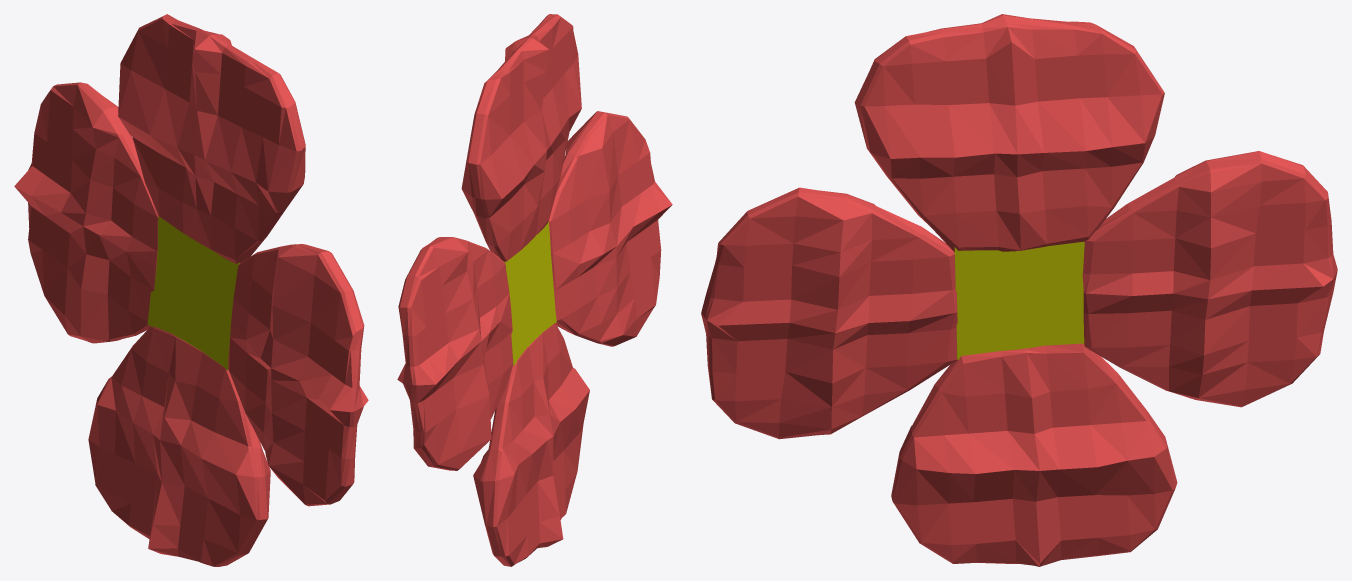
The model's file is MOD_Flowers.fbx.
The picture shows the model from 3 angles, left to right: view 1: azimuth 30°, elevation 25°; view 2: azimuth 150°, elevation 25°; view 3: azimuth 270°, elevation 25°; orthographic projection. The views are drawn at different scales.
Visible parts, largest first — view 1: MOD_TRAM_Fleur:Fleur35; view 2: MOD_TRAM_Fleur:Fleur35; view 3: MOD_TRAM_Fleur:Fleur35.
Part boxes in pixels (box(x1,y1,x2,y2)): MOD_TRAM_Fleur:Fleur35: box(14, 14, 368, 566); MOD_TRAM_Fleur:Fleur35: box(397, 14, 672, 566); MOD_TRAM_Fleur:Fleur35: box(701, 14, 1337, 566).
Size of the model in its own units: 5.04 by 27.67 by 28.25.
